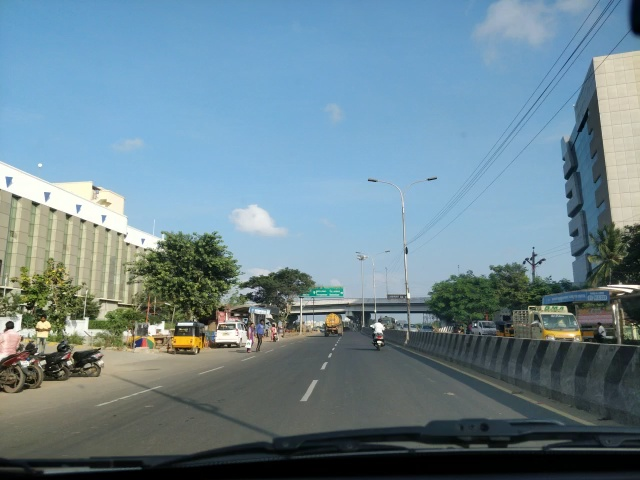auto: (171, 320, 211, 354)
car: (214, 320, 257, 347)
motorbike: (1, 318, 32, 394), (52, 342, 104, 376), (369, 316, 392, 351)
person: (33, 311, 51, 359), (255, 318, 267, 354), (246, 319, 255, 353)
truck: (509, 306, 588, 359), (322, 310, 348, 337)
